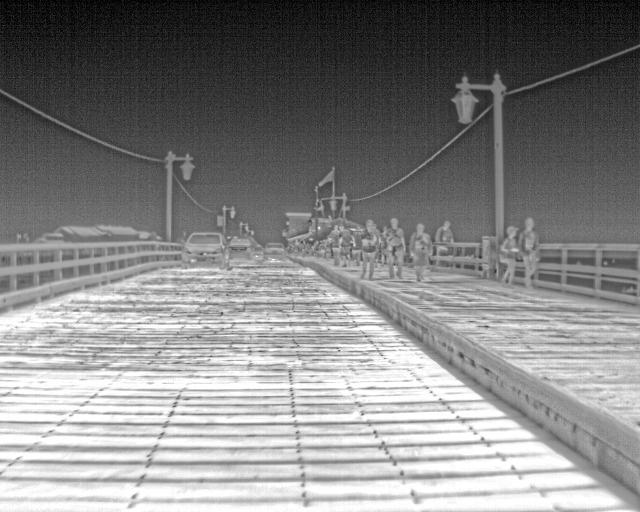bicycle: (180, 230, 228, 266), (228, 236, 251, 257), (264, 241, 285, 260)
empty: (518, 216, 546, 288), (408, 222, 437, 280), (357, 219, 384, 280), (383, 216, 407, 278), (497, 226, 518, 285), (432, 218, 456, 258), (339, 221, 356, 268), (326, 222, 341, 268), (351, 224, 365, 267)
